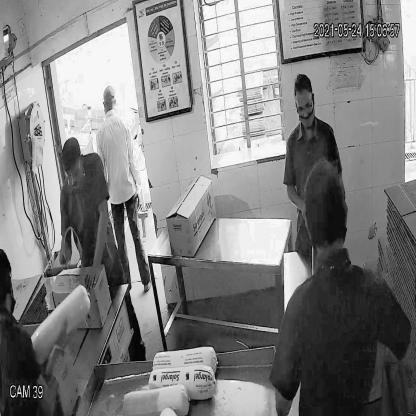goggles: (292, 92, 317, 118), (64, 158, 84, 184)
